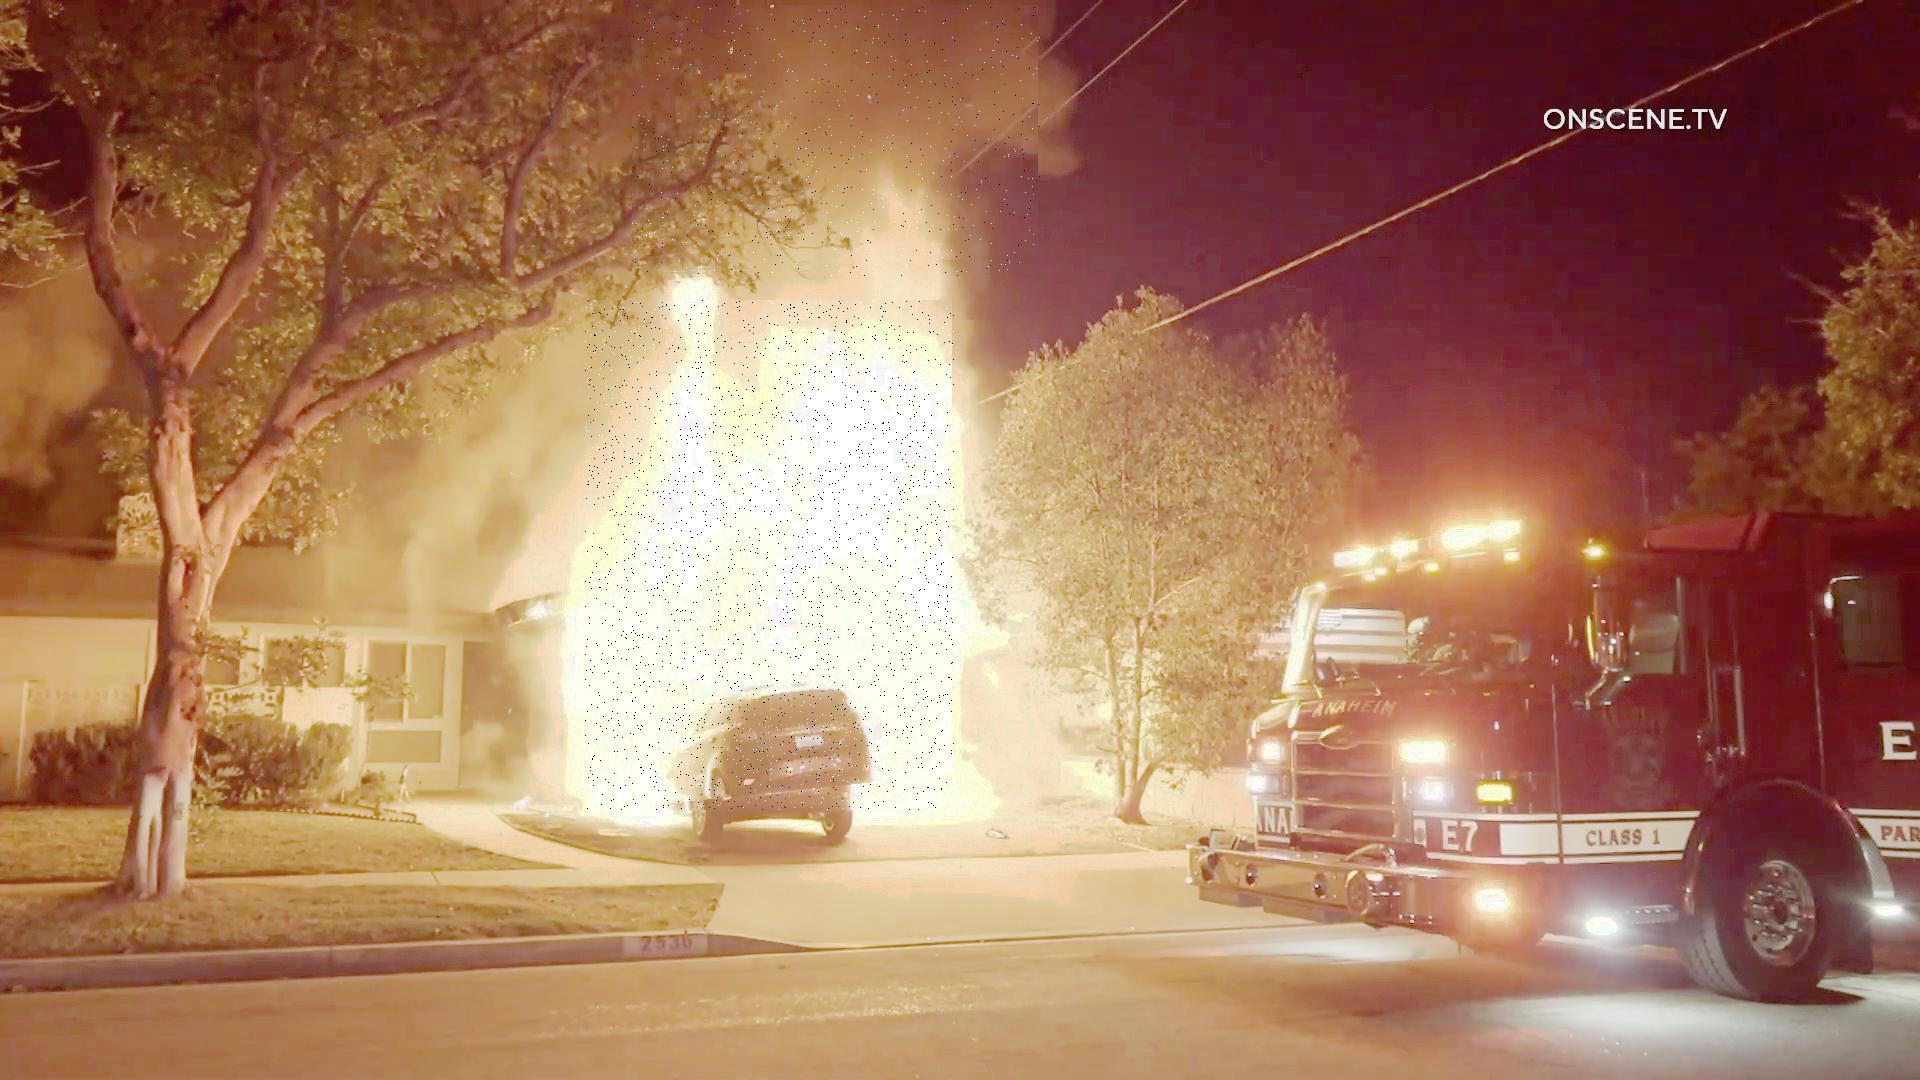fire: (585, 301, 955, 811)
smoke: (633, 5, 1040, 277)
